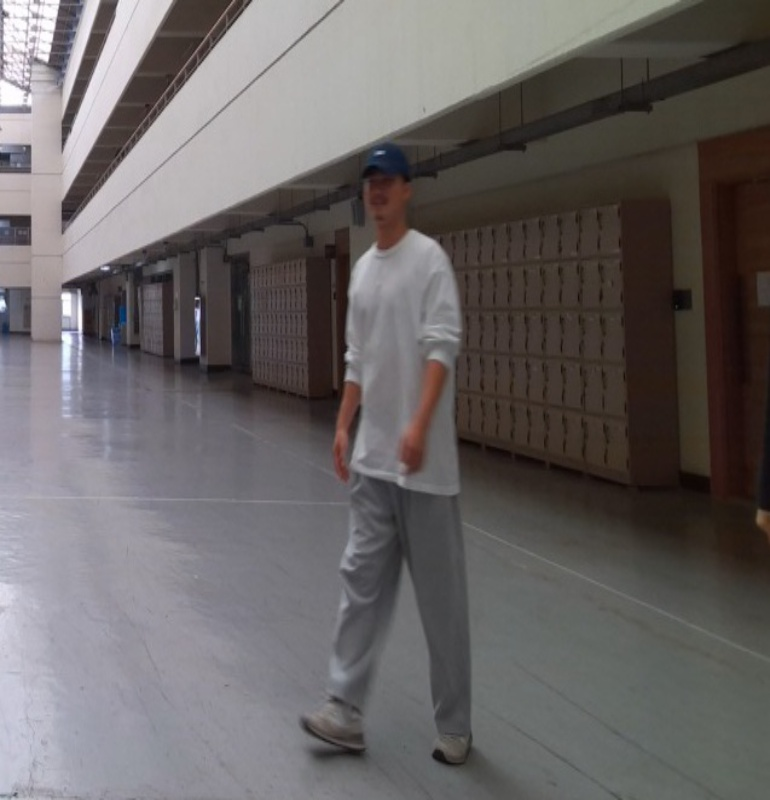person: (298, 143, 487, 769)
